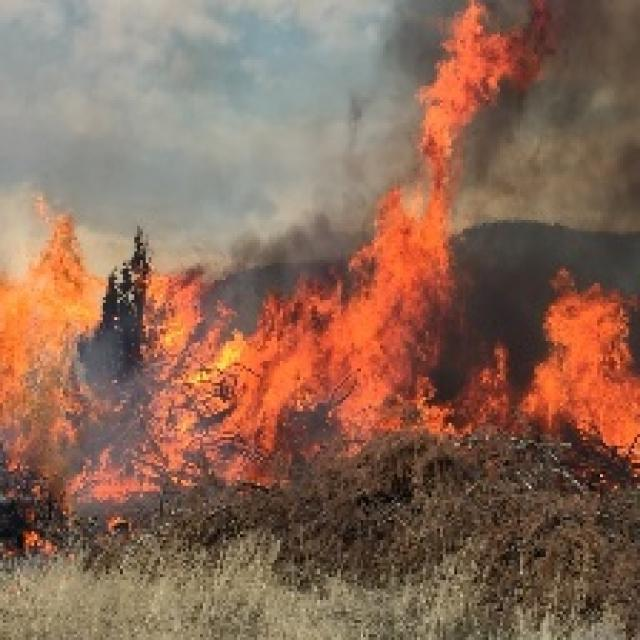Fire: (342, 5, 526, 433), (0, 214, 217, 492), (520, 272, 640, 468), (220, 284, 338, 482)
